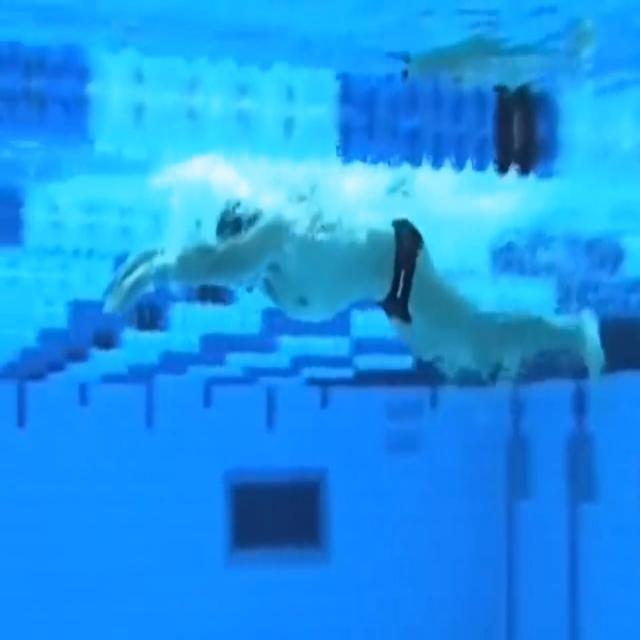Swimming: (105, 205, 607, 394)
